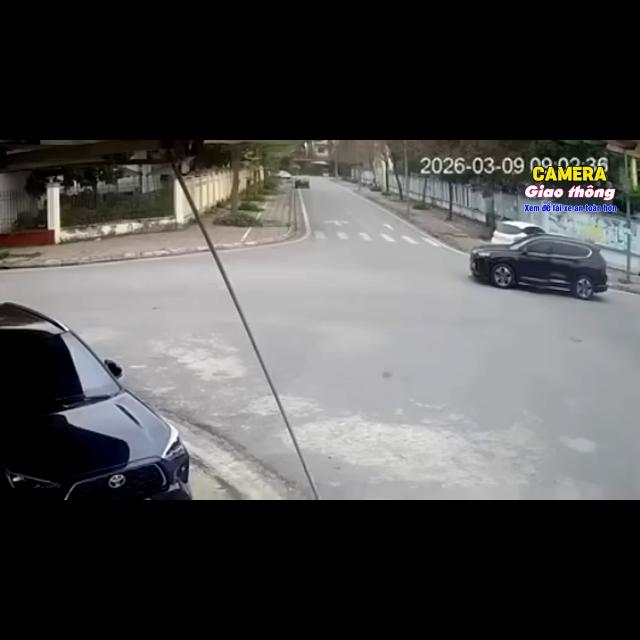car: (0, 303, 191, 499), (470, 234, 607, 299), (491, 221, 544, 243), (295, 177, 309, 188), (278, 170, 292, 179)
